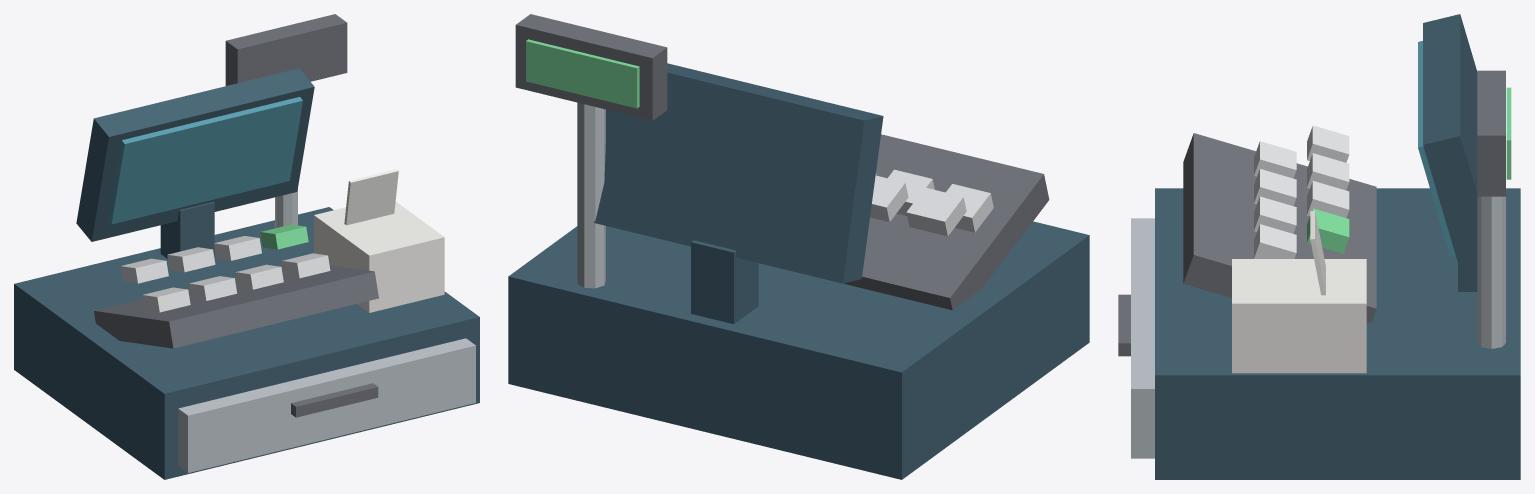
Rendered from CashRegister.fbx.
The picture shows the model from 3 angles, left to right: view 1: azimuth 30°, elevation 25°; view 2: azimuth 150°, elevation 25°; view 3: azimuth 270°, elevation 25°; orthographic projection. The views are drawn at different scales.
Parts seen in each view (by area): view 1: CashRegister; view 2: CashRegister; view 3: CashRegister.
Part boxes in pixels (x1,y1,x2,y2): CashRegister: [14, 14, 479, 479]; CashRegister: [508, 14, 1089, 479]; CashRegister: [1118, 14, 1520, 479].
Bounding box in the file's own units: 0.46 × 0.395 × 0.418.
